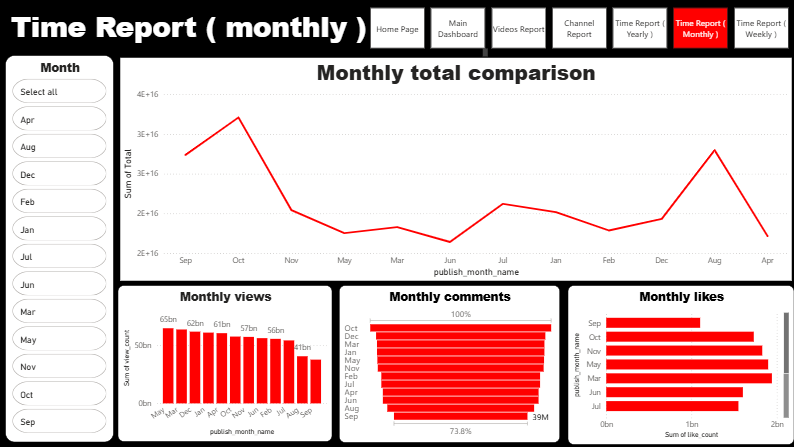

The page's visual inventory and layout, read from the dashboard file:
{"tool":"powerbi","page":{"name":"Time Report ( Monthly )","canvas":[1280,720],"ordinal":6},"visuals":[{"type":"shape","box":[0,0,1280,720],"z":0},{"type":"textbox","title":"Time Report ( monthly )","box":[13.3,12.3,773.3,85],"z":1000},{"type":"columnChart","title":"Monthly views","fields":{"Y":["Sum(Fact_Views.view_count)"],"Category":["Dim_Time.publish_month_name"]},"box":[190,458.3,343.3,250],"z":2000},{"type":"barChart","title":"Monthly likes","fields":{"Category":["Dim_Time.publish_month_name"],"Y":["Sum(Fact_Views.like_count)"]},"box":[909,458.3,362.7,255],"z":3000},{"type":"funnel","title":"Monthly comments","fields":{"Category":["Dim_Time.publish_month_name"],"Y":["Sum(Fact_Views.comment_count)"]},"box":[544.7,458.3,353.7,251.7],"z":4000},{"type":"lineChart","title":"Monthly total comparison","fields":{"Y":["Sum(Fact_Views.engagement)"],"Category":["Dim_Time.publish_month_name"]},"box":[193.3,93.3,1074.7,356.7],"z":5000},{"type":"advancedSlicerVisual","title":"Month","fields":{"Values":["Dim_Time.publish_month_name"]},"box":[10,90.7,173.3,619.3],"z":6000},{"type":"pageNavigator","box":[593.3,13.3,673.3,65],"z":8000}]}

Visuals, with their boxes in screenshot pixels (x1, y1, x2, y2), scaled from the page's 1280x720 canvas onto the 794x447 screenshot:
shape: 0, 0, 793, 446
"Time Report ( monthly )" textbox: 8, 8, 488, 60
"Monthly views" columnChart: 118, 285, 331, 440
"Monthly likes" barChart: 564, 285, 789, 443
"Monthly comments" funnel: 338, 285, 557, 441
"Monthly total comparison" lineChart: 120, 58, 787, 279
"Month" advancedSlicerVisual: 6, 56, 114, 441
pageNavigator: 368, 8, 786, 49
